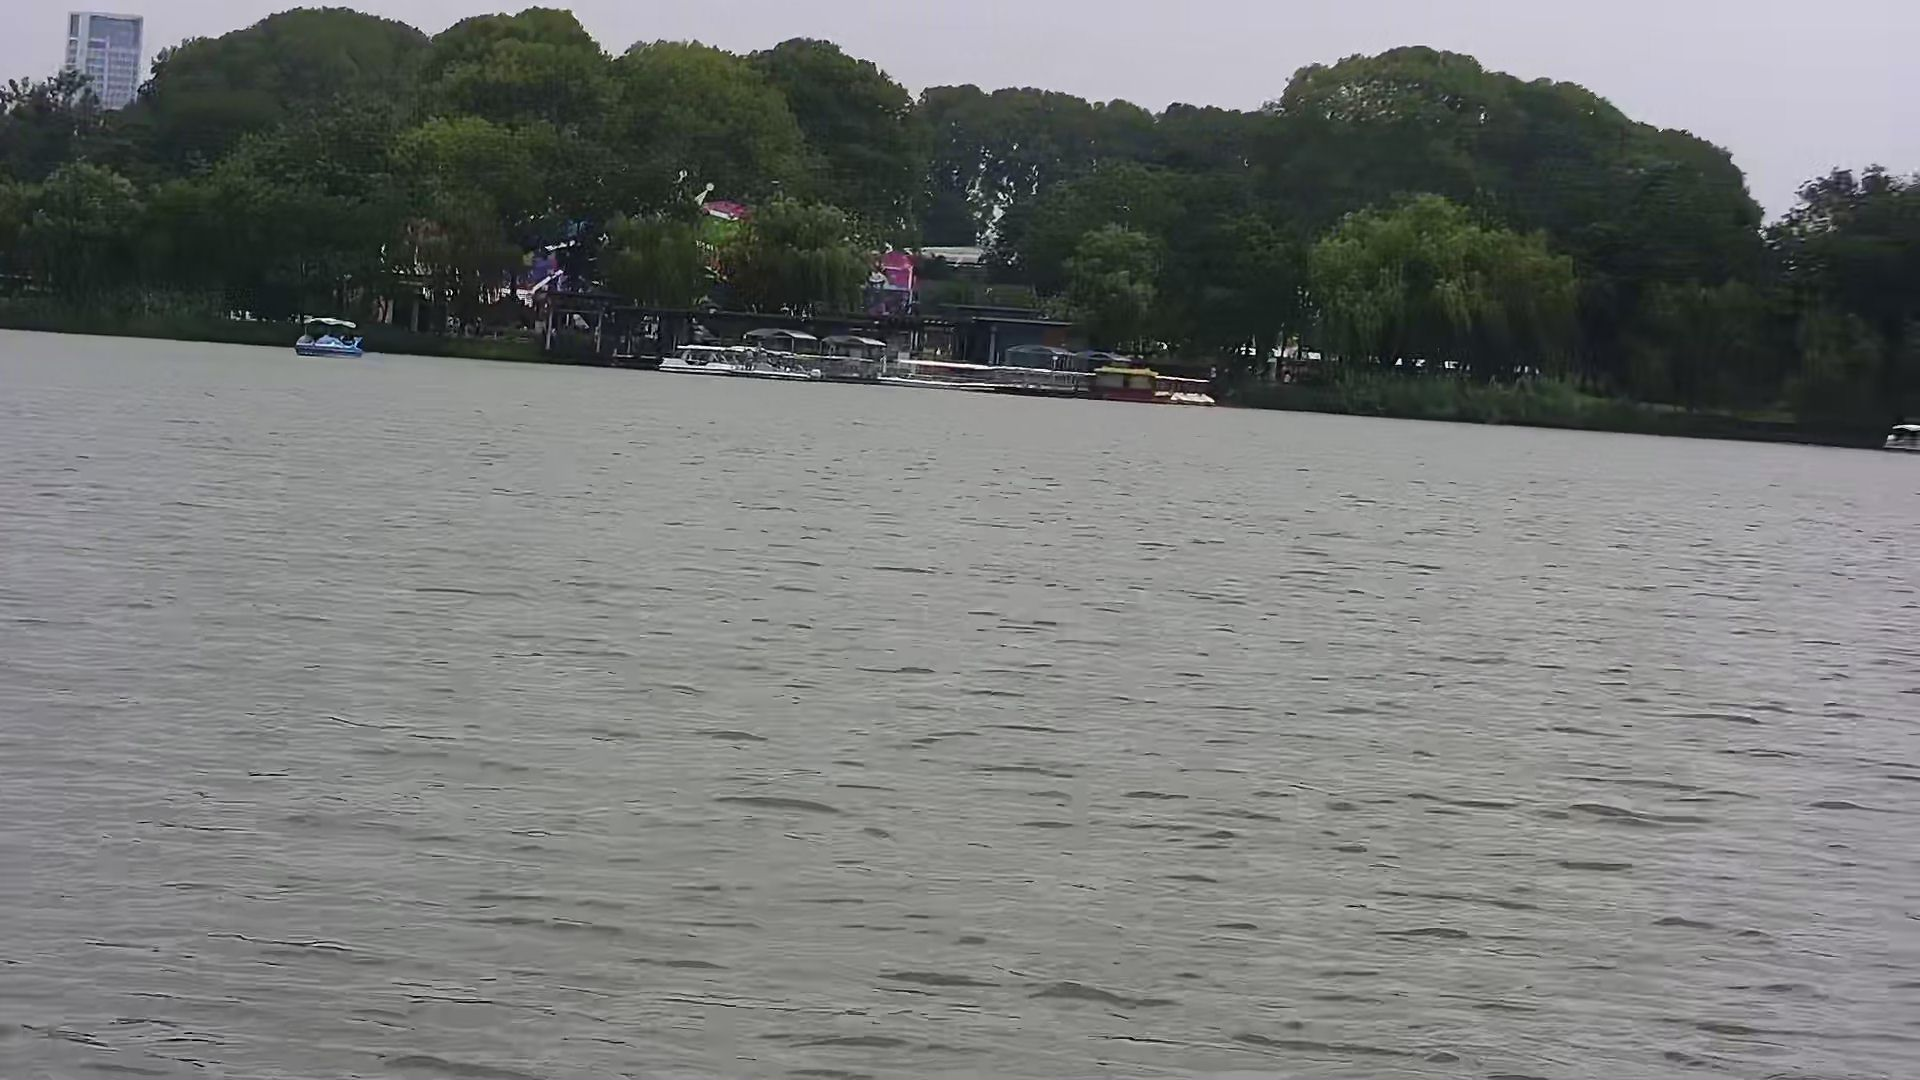boat: (282, 315, 367, 356)
harbor: (649, 309, 1221, 411)
